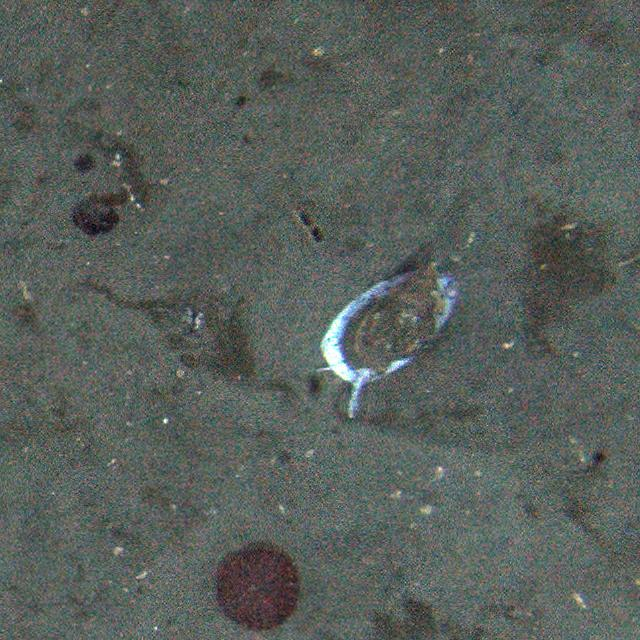whelk: (346, 256, 438, 370)
